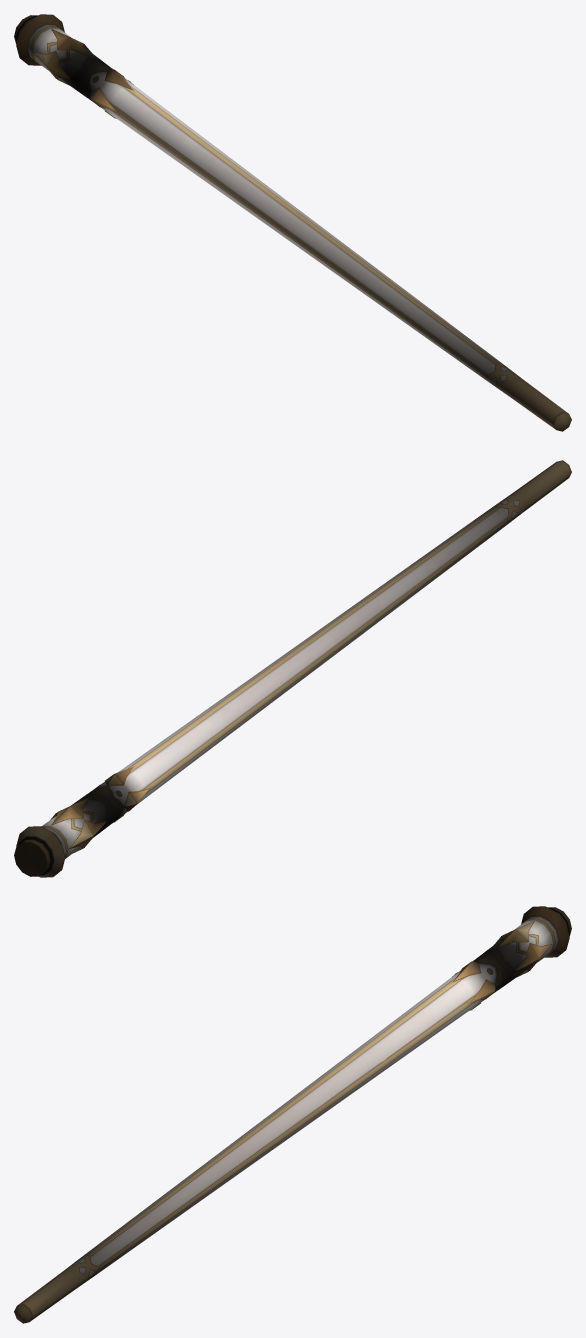
File: edith1.glb
3 renders of one model, top to bottom at view 1: azimuth 30°, elevation 25°; view 2: azimuth 150°, elevation 25°; view 3: azimuth 330°, elevation 25°, orthographic.
Parts seen in each view (by area): view 1: CH_Edith_WP_Base_01.001; view 2: CH_Edith_WP_Base_01.001; view 3: CH_Edith_WP_Base_01.001.
Boxes of the visible parts, x1,y1,x2,y2 form: CH_Edith_WP_Base_01.001: [14, 14, 571, 431]; CH_Edith_WP_Base_01.001: [14, 460, 571, 877]; CH_Edith_WP_Base_01.001: [14, 906, 571, 1323].
Size of the model in its own units: 0.0473 by 0.0473 by 0.892.
1 material, 1 textured.
